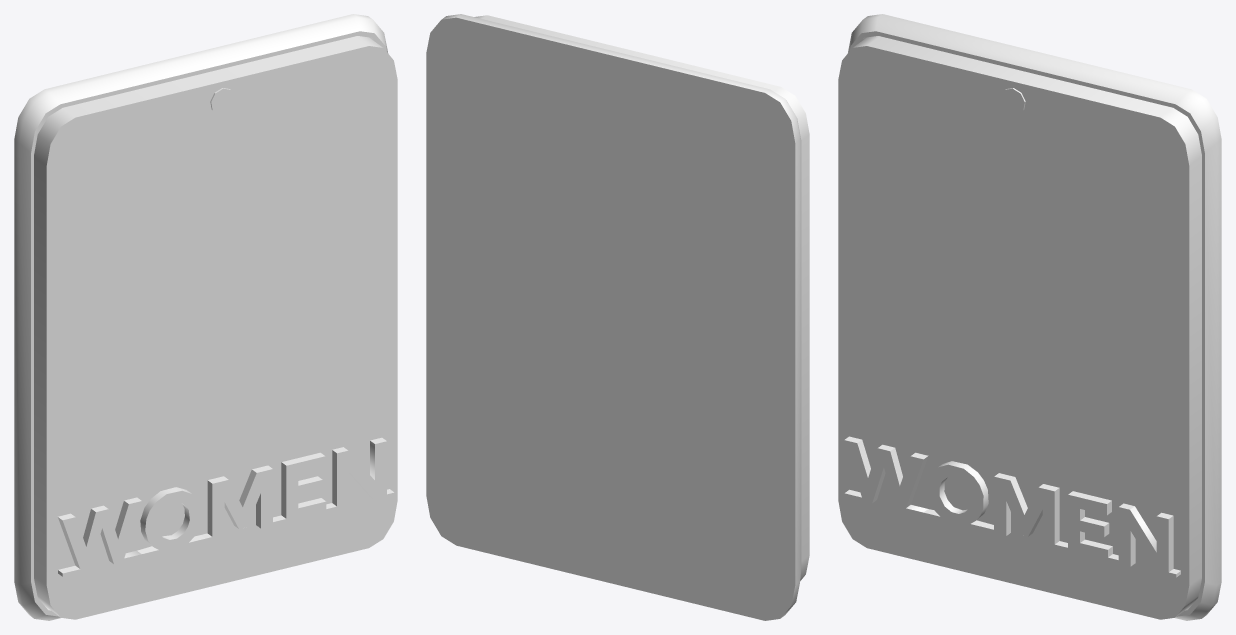
File: Restroom Sign Female.glb
3 renders of one model, left to right at view 1: azimuth 30°, elevation 25°; view 2: azimuth 150°, elevation 25°; view 3: azimuth 330°, elevation 25°, orthographic.
Parts seen in each view (by area): view 1: Plane.027; view 2: Plane.027; view 3: Plane.027.
Boxes of the visible parts, x1,y1,x2,y2 form: Plane.027: [14, 14, 397, 620]; Plane.027: [426, 14, 809, 620]; Plane.027: [838, 14, 1221, 620].
Size of the model in its own units: 0.2102 by 0.2873 by 0.0281.
Materials: 3 (2 with a texture image).
